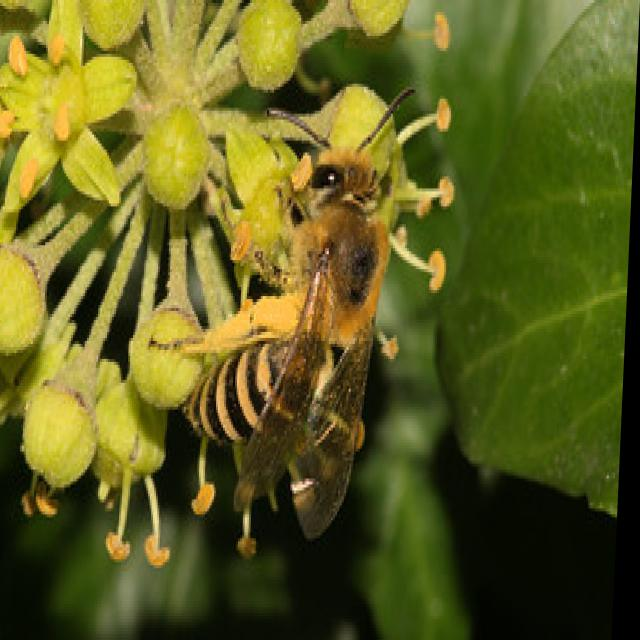Abeille: (172, 79, 459, 548)
